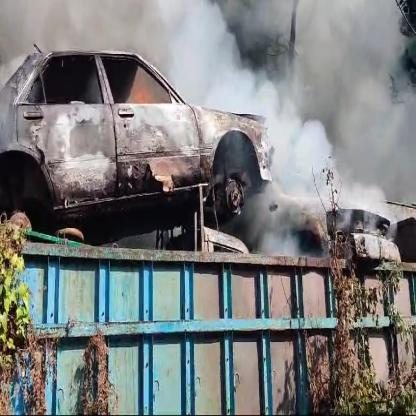Smoke: (0, 0, 416, 256)
